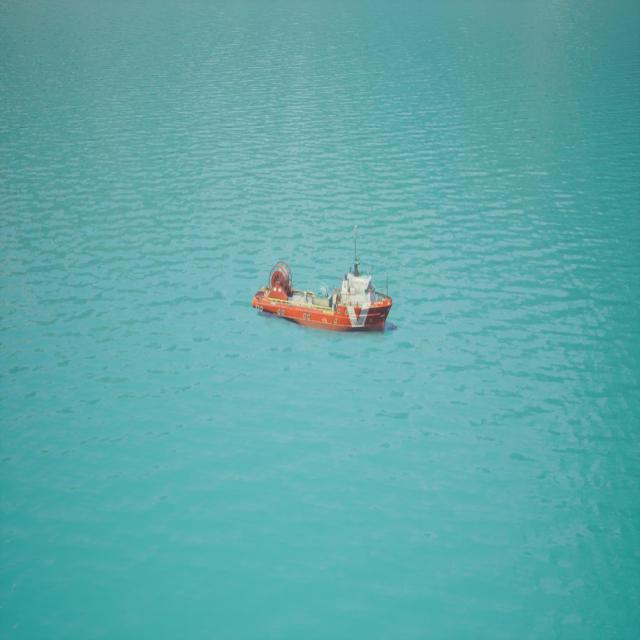tug boat: (253, 229, 397, 338)
